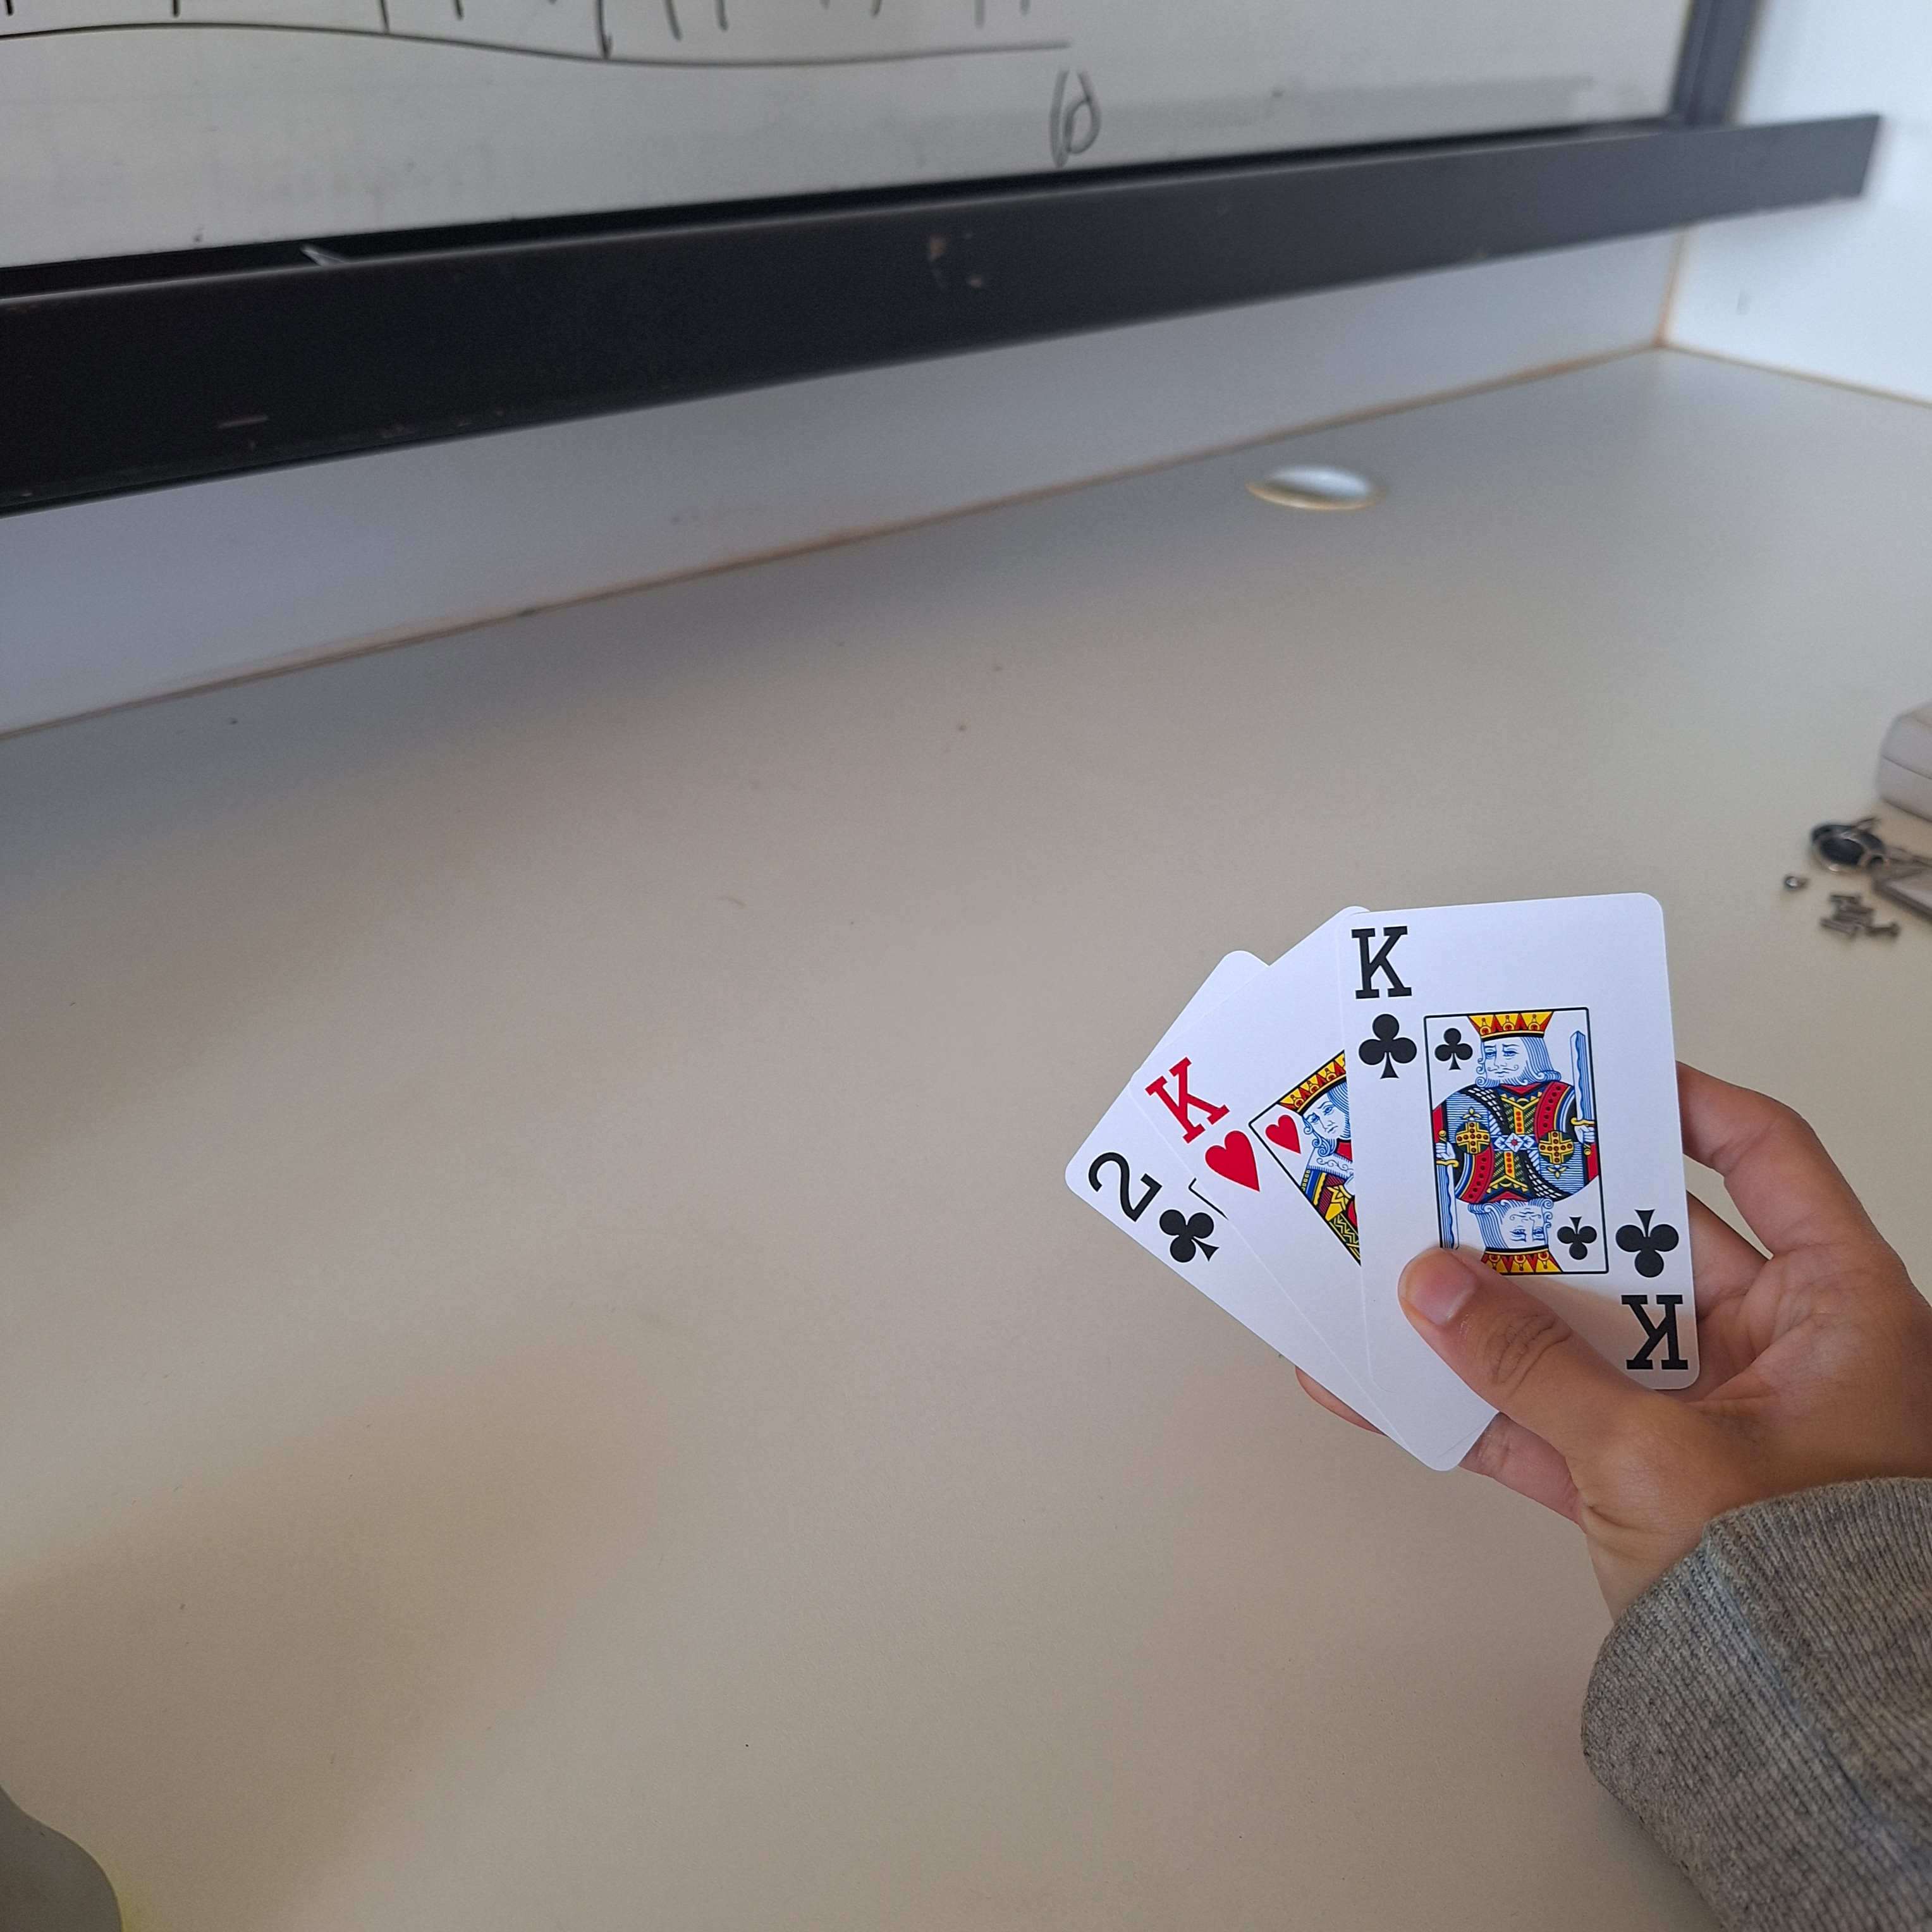2P: (1083, 1148, 1223, 1274)
KC: (1139, 1047, 1267, 1192)
KP: (1336, 913, 1433, 1090), (1606, 1198, 1695, 1378)
